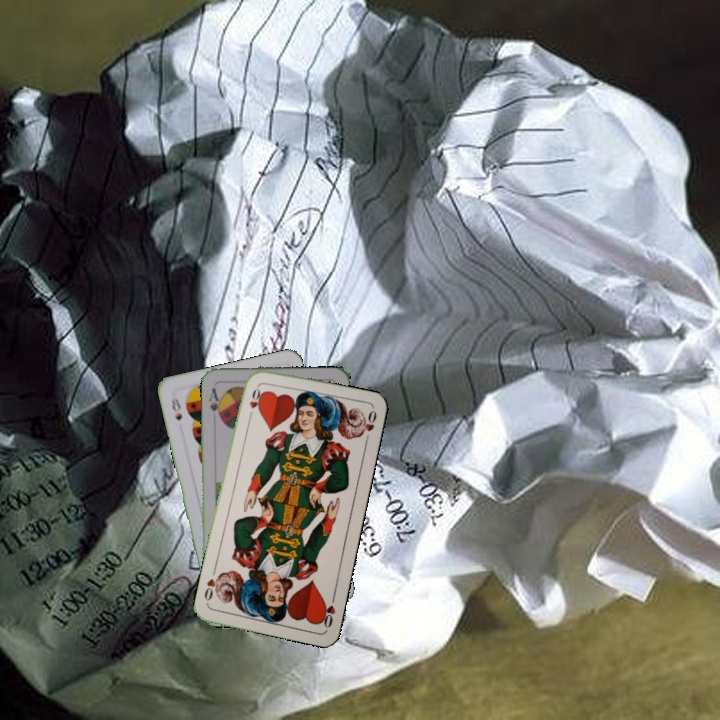HO: (316, 591, 338, 631), (244, 382, 263, 422)
S8: (167, 393, 185, 423)
SA: (205, 384, 224, 421)
